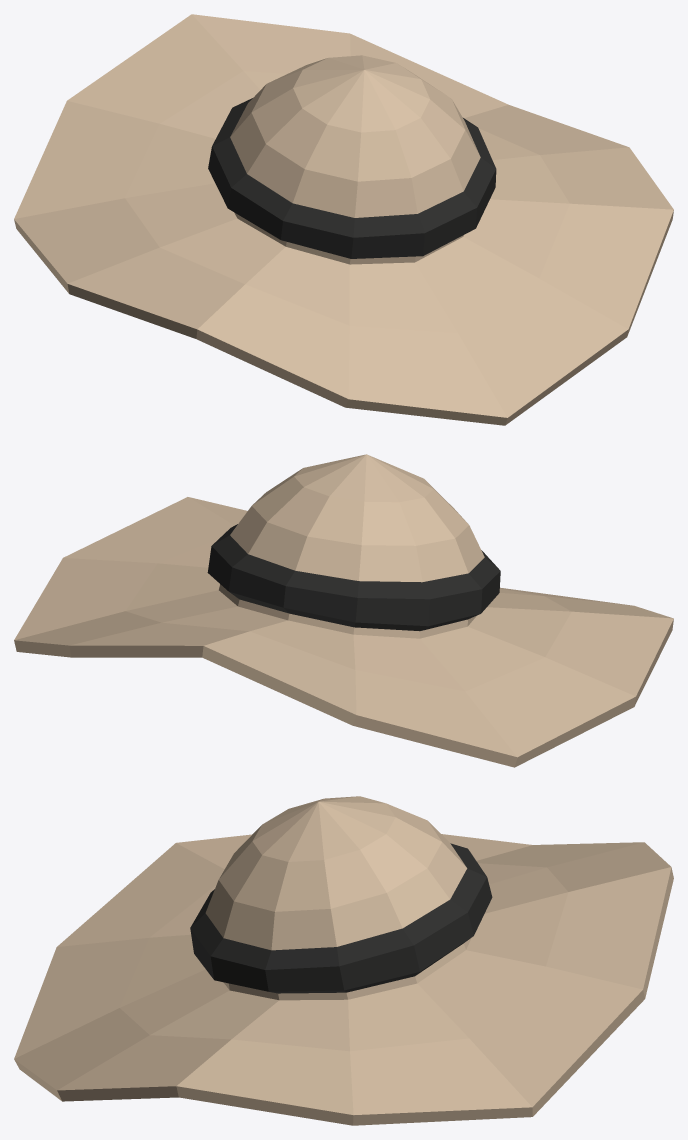
File: SunHat_V1.1.fbx
3 views of the same model, one above another, from view 1: azimuth 30°, elevation 25°; view 2: azimuth 150°, elevation 25°; view 3: azimuth 270°, elevation 25° (orthographic). The views are drawn at different scales.
Visible parts, largest first — view 1: Sphere; view 2: Sphere; view 3: Sphere.
Part boxes in pixels (x1=…): Sphere: x1=14, y1=14, x2=673, y2=425; Sphere: x1=14, y1=454, x2=673, y2=767; Sphere: x1=14, y1=796, x2=673, y2=1125.
Bounding box in the file's own units: 185 × 79.5 × 177.
